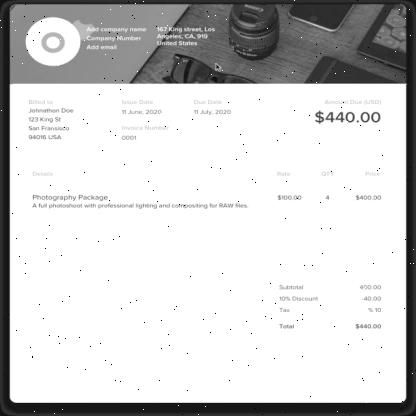Paragraph: (26, 167, 386, 213), (277, 283, 383, 331), (85, 26, 217, 52), (26, 98, 74, 142), (314, 98, 384, 126), (120, 124, 170, 140), (120, 98, 163, 116), (192, 98, 232, 116)
